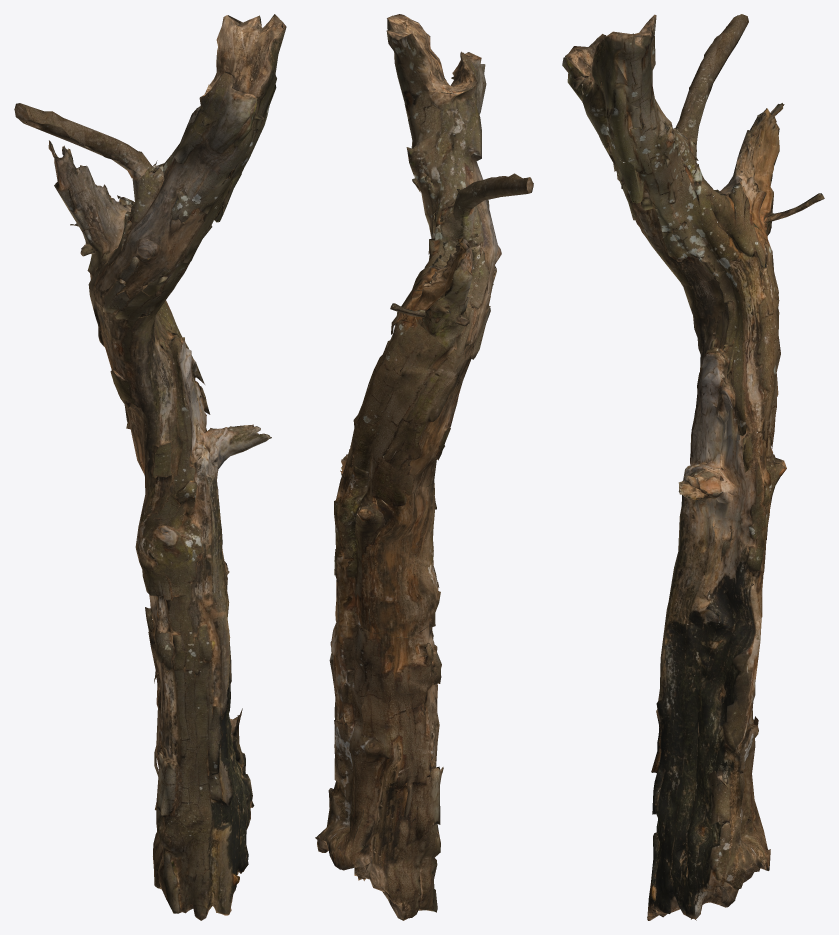
The model's file is swamp_dead_tree.glb.
3 renders of one model, left to right at view 1: azimuth 30°, elevation 25°; view 2: azimuth 150°, elevation 25°; view 3: azimuth 270°, elevation 25°, orthographic. The views are drawn at different scales.
Visible parts, largest first — view 1: dead_tree_trunk_02; view 2: dead_tree_trunk_02; view 3: dead_tree_trunk_02.
Part boxes in pixels (x1,y1,x2,y2): dead_tree_trunk_02: (14, 14, 286, 920); dead_tree_trunk_02: (315, 14, 533, 920); dead_tree_trunk_02: (562, 14, 824, 920).
Bounding box in the file's own units: 2.09 × 8 × 2.09.
Materials: 1 (1 with a texture image).
